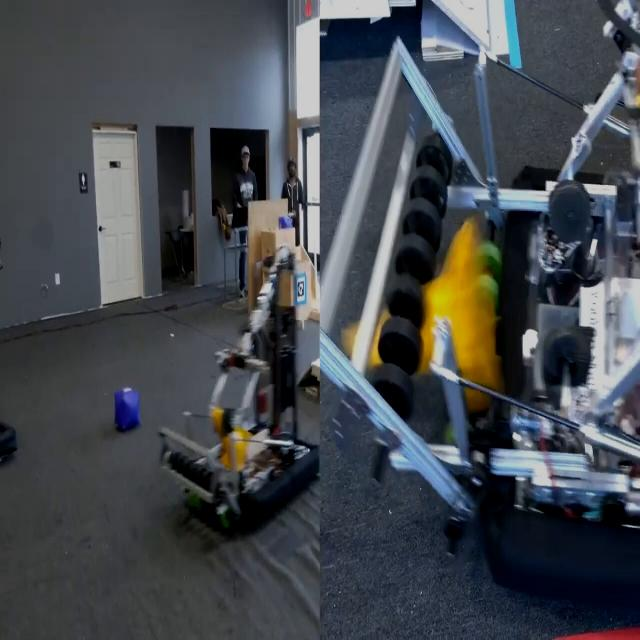frc_cone: (341, 254, 504, 408)
frc_cube: (112, 382, 140, 432), (276, 210, 294, 233)
